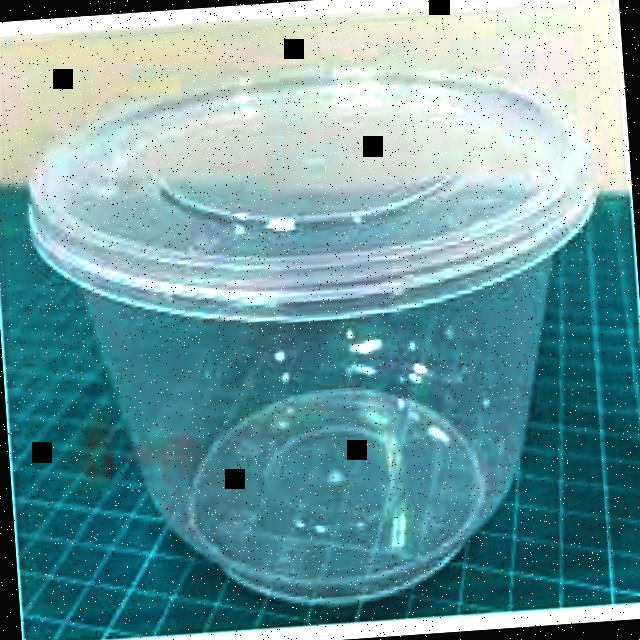plastic_box: (20, 48, 626, 622)
